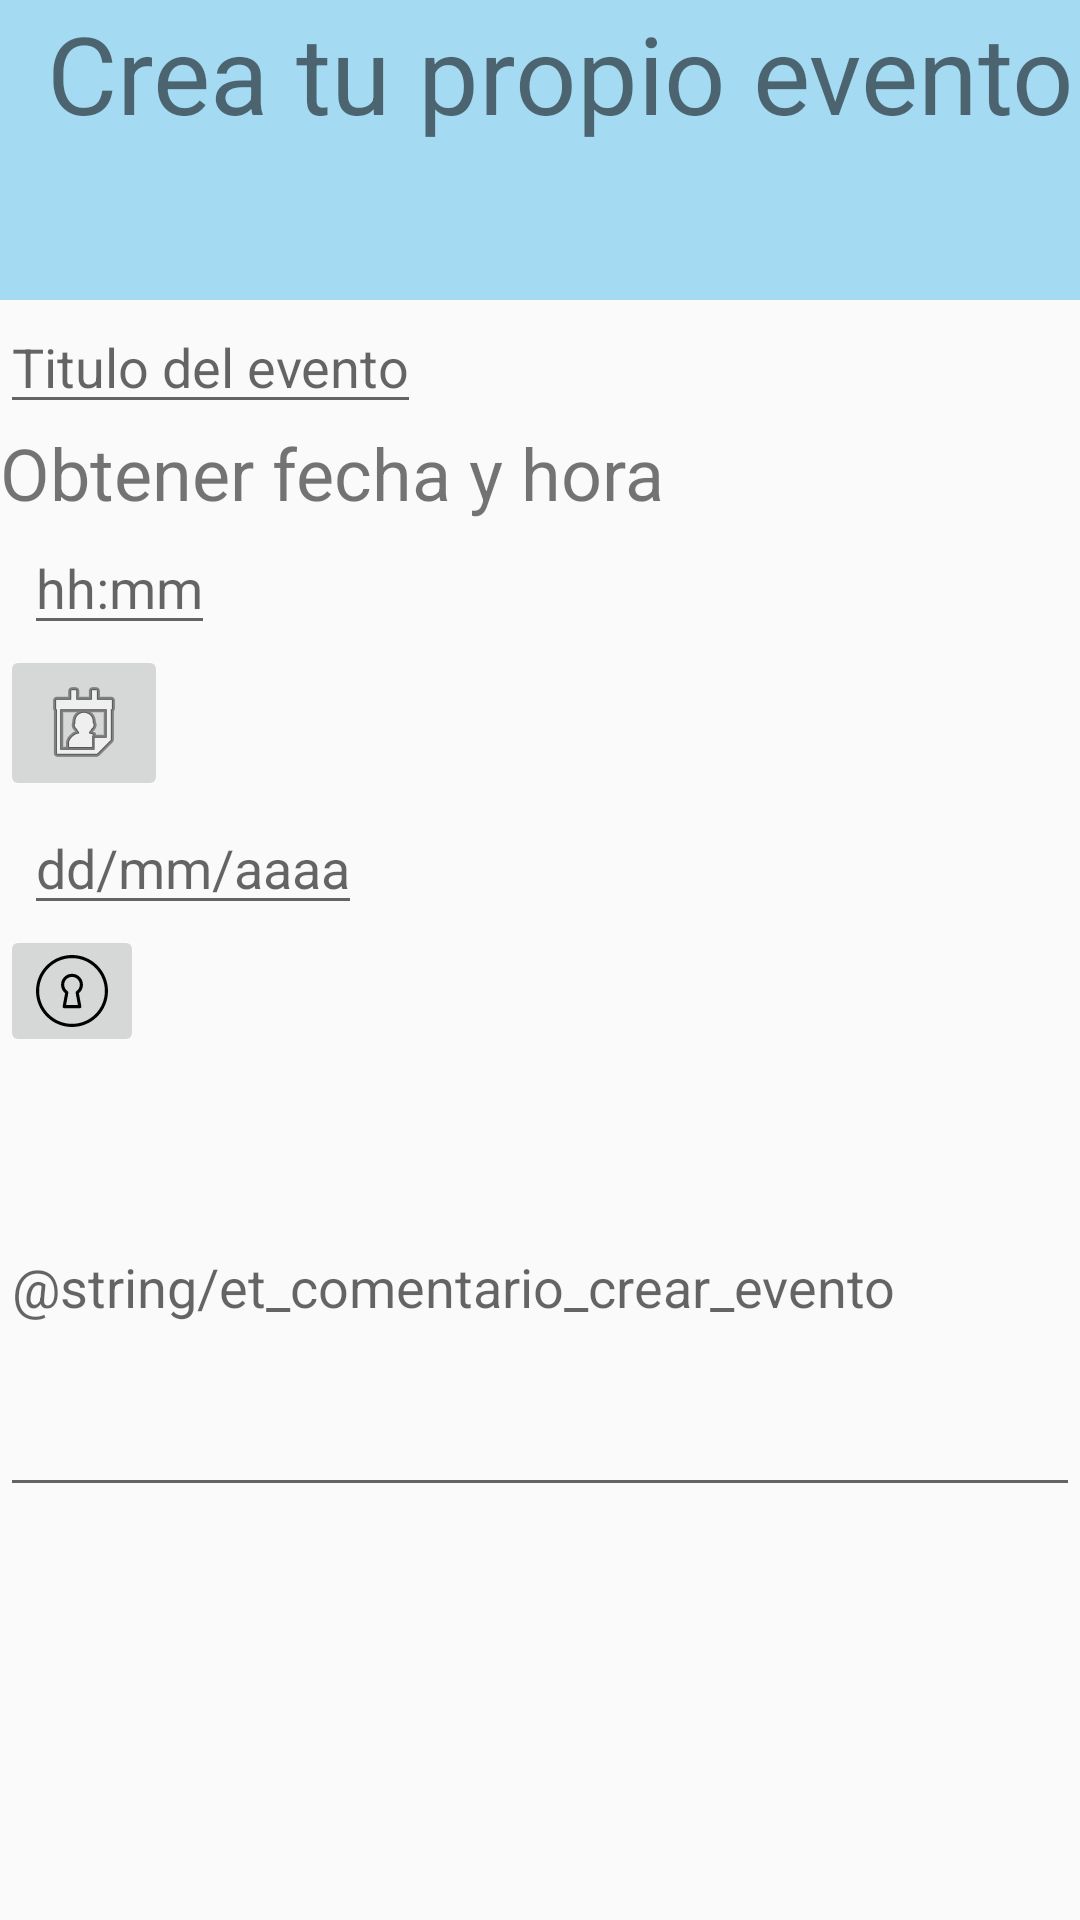

Named icons in this screenshot (1080x1920) and their bounding boxes, [x1,y1,x2,y2]:
calendar: [12,663,156,783]
keyhole: [12,943,132,1039]
